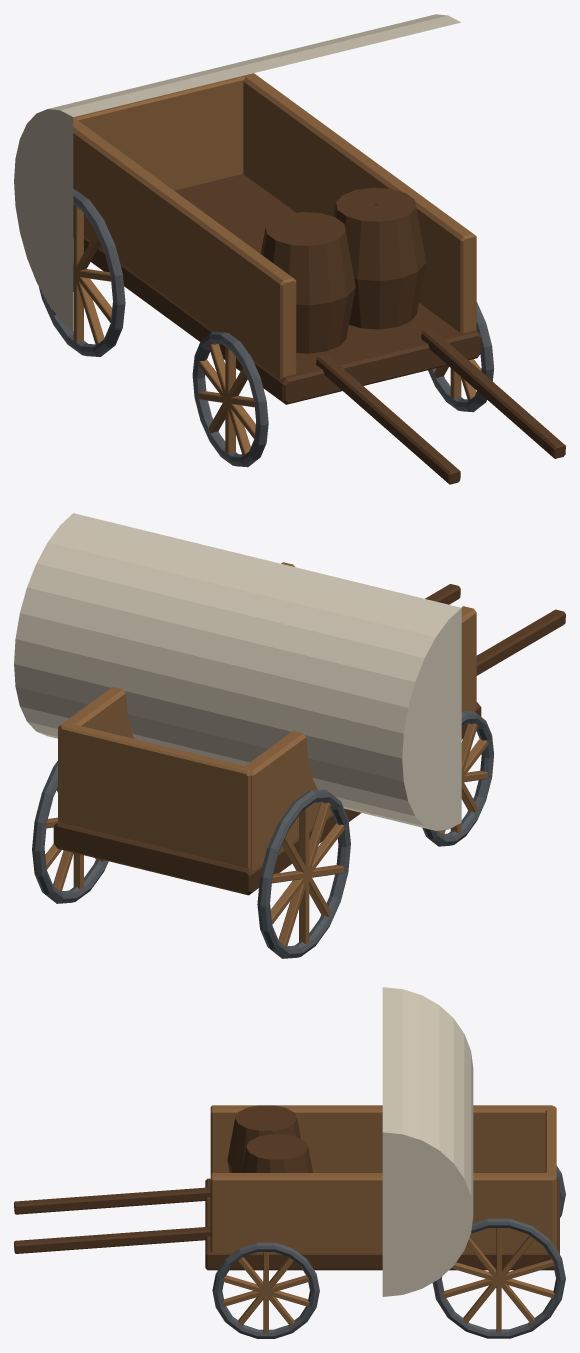
The model's file is market-wagon.glb.
3 renders of one model, top to bottom at view 1: azimuth 30°, elevation 25°; view 2: azimuth 150°, elevation 25°; view 3: azimuth 270°, elevation 25°, orthographic. The views are drawn at different scales.
Visible parts, largest first — view 1: mat_timberLight, mat_timber, mat_cloth, mat_metal; view 2: mat_cloth, mat_timberLight, mat_metal, mat_timber; view 3: mat_timberLight, mat_cloth, mat_timber, mat_metal.
Boxes of the visible parts, <box> form: mat_timberLight: <box>52,73,481,455</box>; mat_timber: <box>73,174,565,484</box>; mat_cloth: <box>14,14,461,331</box>; mat_metal: <box>38,189,494,467</box>; mat_cloth: <box>14,513,461,830</box>; mat_timberLight: <box>45,562,487,946</box>; mat_metal: <box>32,711,493,958</box>; mat_timber: <box>53,584,565,895</box>; mat_timberLight: <box>210,1105,556,1332</box>; mat_cloth: <box>382,987,473,1296</box>; mat_timber: <box>14,1105,559,1270</box>; mat_metal: <box>212,1166,565,1338</box>.
Size of the model in its own units: 3.1 by 2.36 by 4.98.
